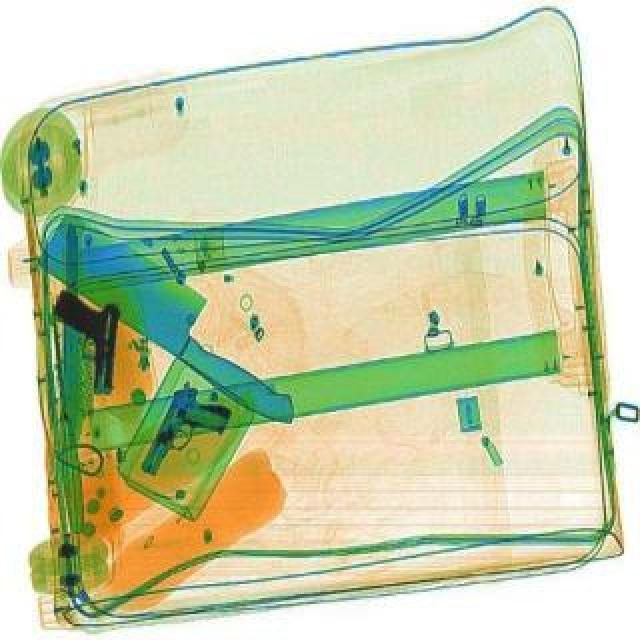gun: (134, 378, 238, 490), (46, 286, 120, 394)
knife: (22, 206, 330, 430), (42, 300, 86, 528), (58, 226, 84, 436)
